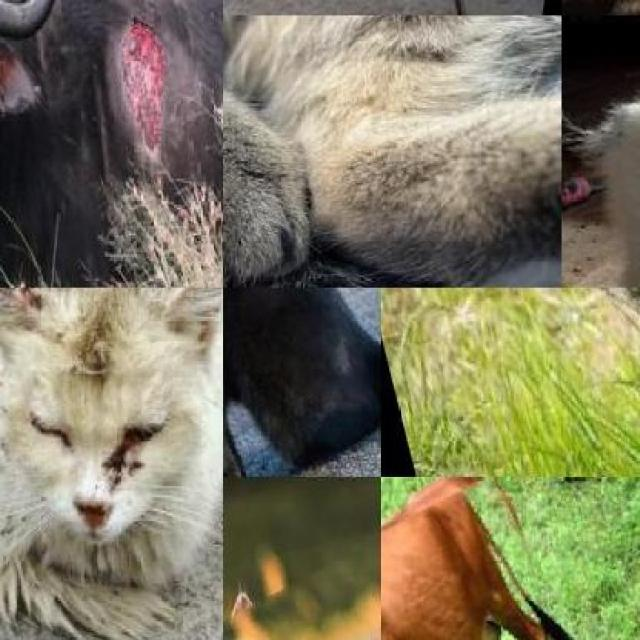buffalo: (0, 0, 223, 288)
cat: (0, 288, 223, 628), (223, 288, 380, 477), (223, 489, 380, 640), (561, 15, 640, 287)
cow: (380, 477, 640, 640)
dog: (429, 288, 640, 477)
injured: (117, 0, 183, 174), (223, 74, 262, 288), (0, 288, 49, 377), (611, 288, 640, 402)
